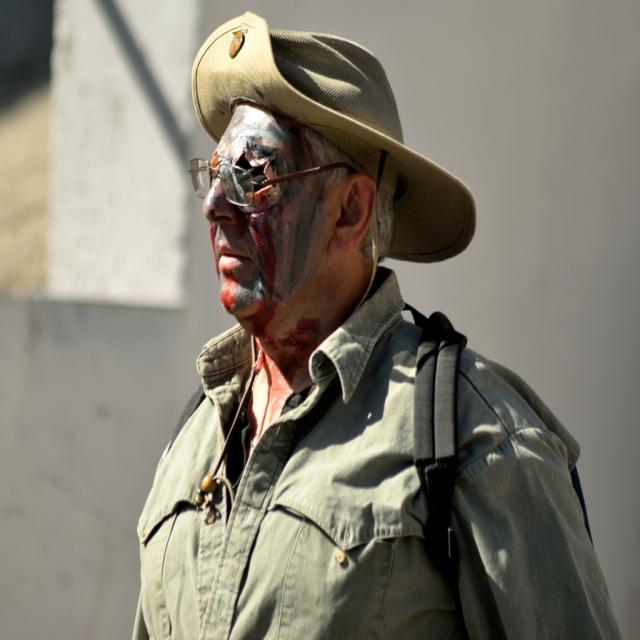Hat: (189, 8, 477, 266)
